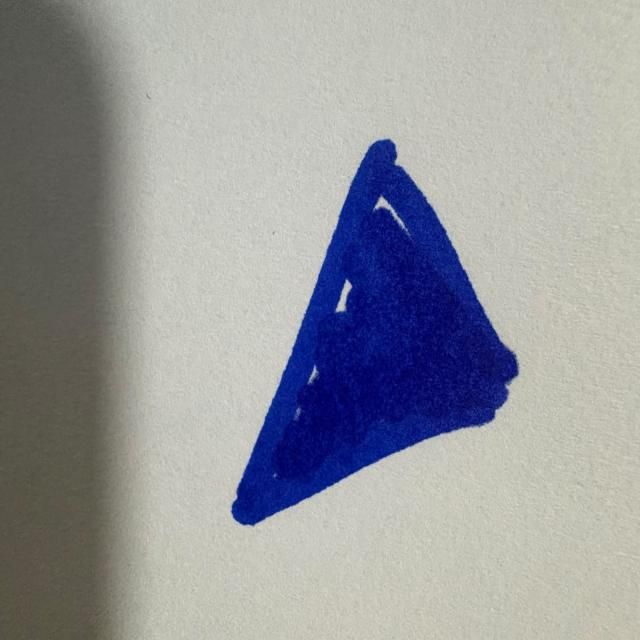Triangle: (232, 140, 518, 524)
